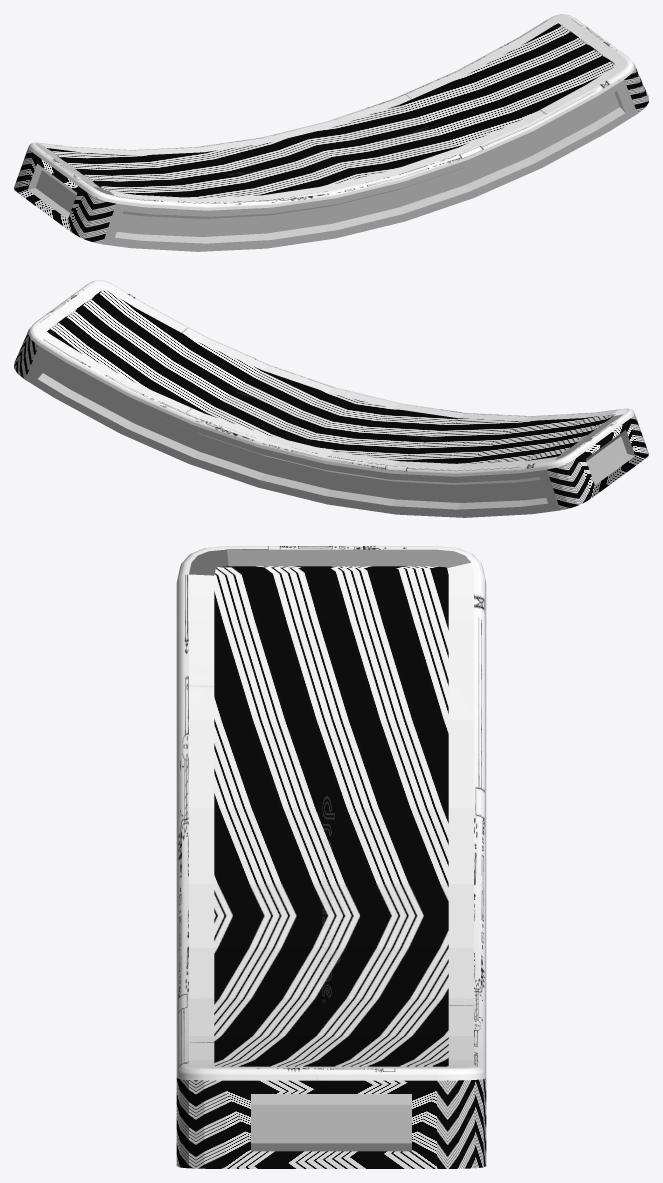
Rendered from Ramp_test_2 1.FBX.
The picture shows the model from 3 angles, top to bottom: view 1: azimuth 30°, elevation 25°; view 2: azimuth 150°, elevation 25°; view 3: azimuth 270°, elevation 25°; orthographic projection. The views are drawn at different scales.
Visible parts, largest first — view 1: Box004; view 2: Box004; view 3: Box004.
Part boxes in pixels (<box>): Box004: <box>14,14,648,251</box>; Box004: <box>14,280,648,517</box>; Box004: <box>176,546,486,1168</box>.
Bounding box in the file's own units: 14.7 × 2.44 × 3.44.
